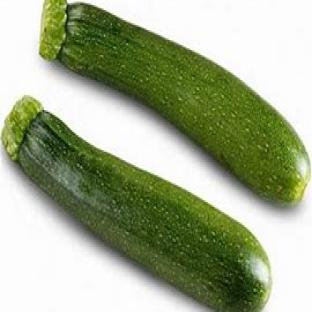Zucchini: (3, 97, 271, 311)
